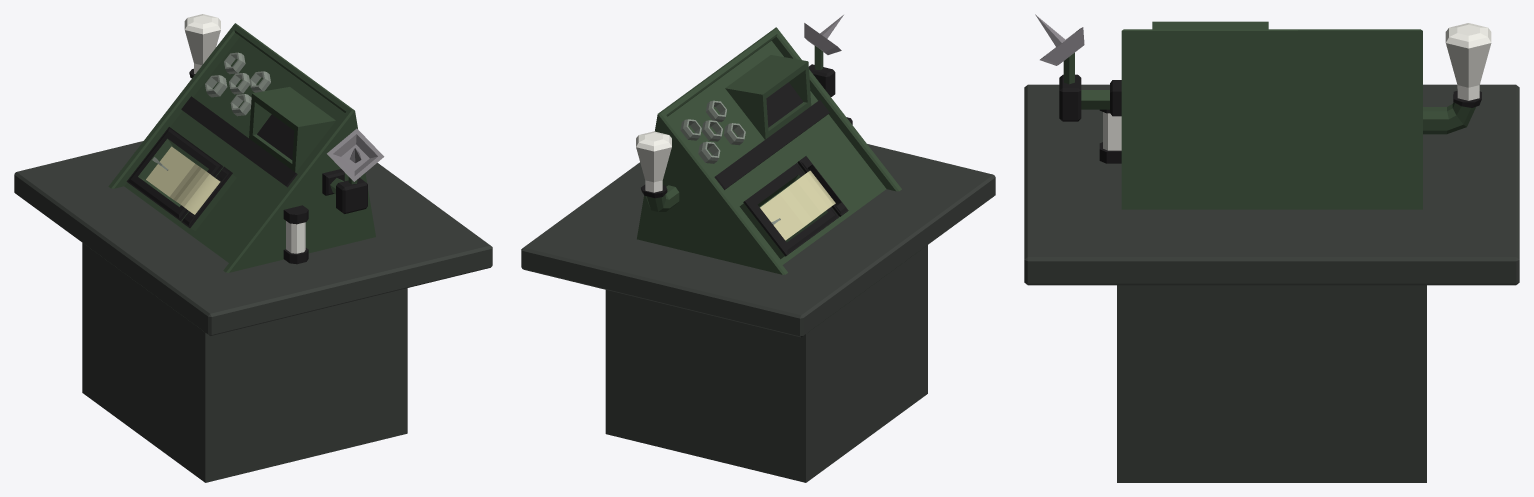
The model's file is Switch_Board_002.fbx.
3 views of the same model, side by side, from view 1: azimuth 30°, elevation 25°; view 2: azimuth 150°, elevation 25°; view 3: azimuth 270°, elevation 25° (orthographic). The views are drawn at different scales.
Parts seen in each view (by area): view 1: Switchboard_Table_Legs_001, SwitchBoard_Table_001, SwitchBoardBox_001, Screen_001, Paper_001, Screen_002, pCube17, GlassTube_001, Aerial_Attachment_003, Depository_001, Glass_Tube_003; view 2: Switchboard_Table_Legs_001, SwitchBoard_Table_001, SwitchBoardBox_001, Screen_001, Screen_002, Paper_001, GlassTube_001, BulbTubing_001, Depository_001, pCube17; view 3: Switchboard_Table_Legs_001, SwitchBoard_Table_001, SwitchBoardBox_001, GlassTube_001, BulbTubing_001, Screen_001, Aerial_Attachment_003, pCube17, Glass_Tube_003, Aerial_Attachment_002.
Part boxes in pixels (x1=…): Switchboard_Table_Legs_001: x1=82, y1=243, x2=407, y2=482; SwitchBoard_Table_001: x1=14, y1=141, x2=492, y2=335; SwitchBoardBox_001: x1=108, y1=23, x2=375, y2=272; Screen_001: x1=249, y1=87, x2=335, y2=172; Paper_001: x1=146, y1=146, x2=220, y2=214; Screen_002: x1=126, y1=127, x2=223, y2=221; pCube17: x1=327, y1=128, x2=384, y2=181; GlassTube_001: x1=184, y1=14, x2=220, y2=73; Aerial_Attachment_003: x1=336, y1=178, x2=367, y2=213; Depository_001: x1=181, y1=166, x2=236, y2=230; Glass_Tube_003: x1=286, y1=221, x2=305, y2=253; Switchboard_Table_Legs_001: x1=605, y1=245, x2=927, y2=482; SwitchBoard_Table_001: x1=521, y1=144, x2=995, y2=337; SwitchBoardBox_001: x1=637, y1=27, x2=901, y2=274; Screen_001: x1=725, y1=55, x2=811, y2=139; Screen_002: x1=739, y1=163, x2=838, y2=259; Paper_001: x1=760, y1=170, x2=835, y2=240; GlassTube_001: x1=636, y1=131, x2=671, y2=192; BulbTubing_001: x1=641, y1=184, x2=679, y2=211; Depository_001: x1=797, y1=156, x2=848, y2=216; pCube17: x1=804, y1=23, x2=841, y2=54; Switchboard_Table_Legs_001: x1=1117, y1=285, x2=1426, y2=482; SwitchBoard_Table_001: x1=1024, y1=84, x2=1519, y2=285; SwitchBoardBox_001: x1=1121, y1=29, x2=1422, y2=209; GlassTube_001: x1=1445, y1=23, x2=1491, y2=100; BulbTubing_001: x1=1423, y1=90, x2=1481, y2=134; Screen_001: x1=1152, y1=21, x2=1268, y2=29; Aerial_Attachment_003: x1=1059, y1=74, x2=1081, y2=121; pCube17: x1=1040, y1=27, x2=1084, y2=65; Glass_Tube_003: x1=1103, y1=112, x2=1121, y2=150; Aerial_Attachment_002: x1=1081, y1=90, x2=1109, y2=109.
Size of the model in its own units: 277 by 311 by 332.
2 materials, 2 textured.
